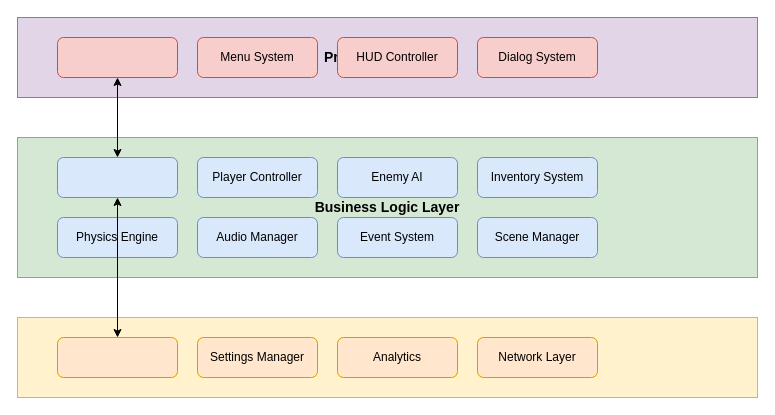
Some shapes in this 775 by 415 pixel diagram are drawn without their labels. Here are the shapes that lost their labels. From the top down, the centre of each, then its label:
At [117,57]: "UI Manager".
At [117,177]: "Game Manager".
At [117,357]: "Save System".
